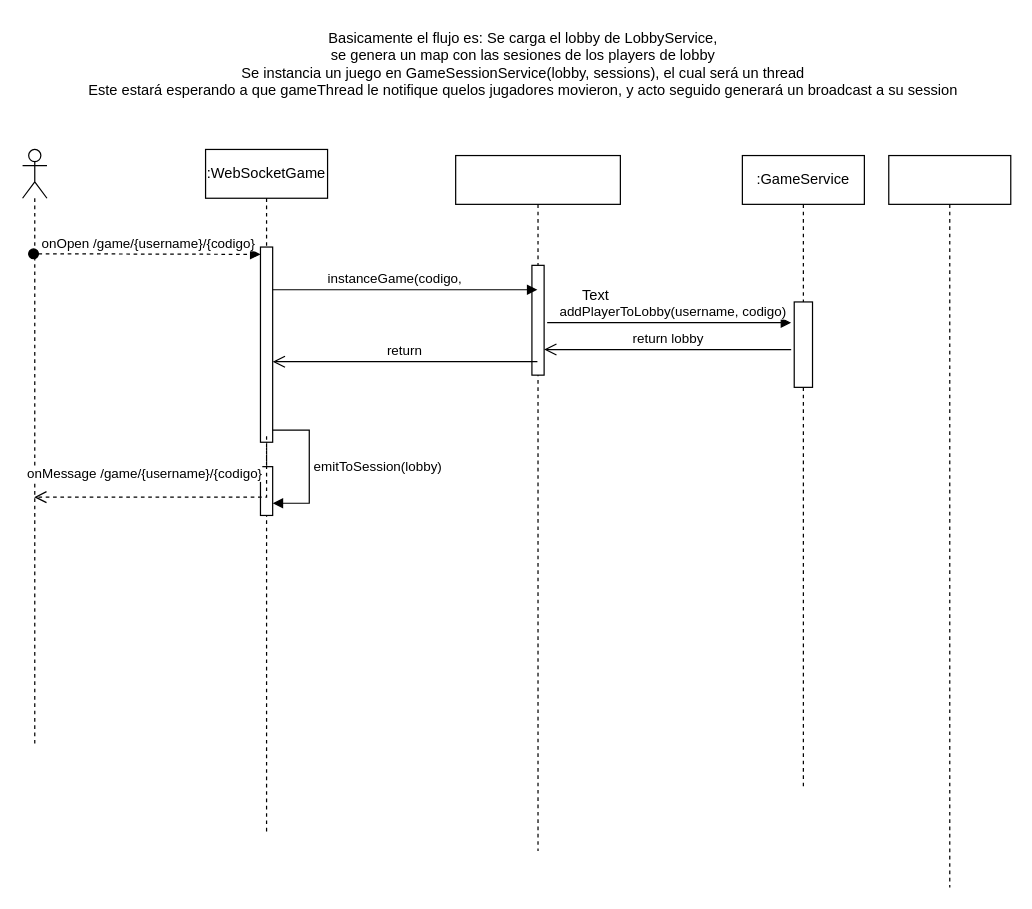
Some shapes in this 1032 by 909 pixel diagram are drawn without their labels. Each missing label, with the box of its shape:
:GameSessionService: (454, 154, 620, 851)
:GameThread: (888, 154, 1011, 888)
